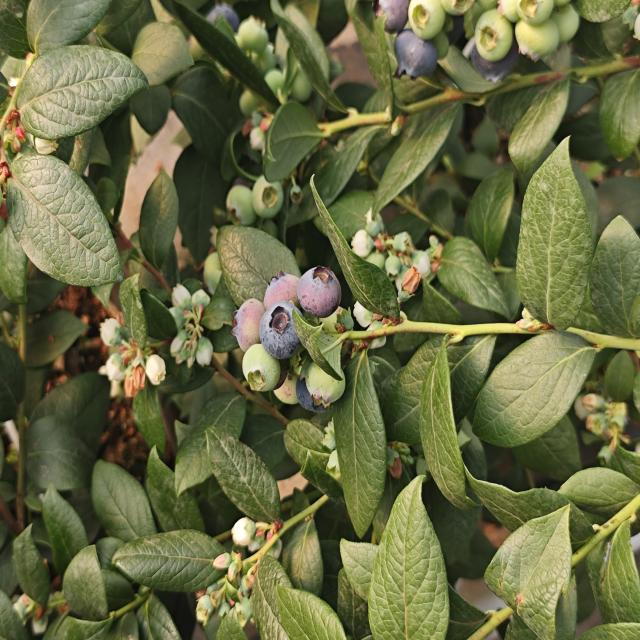ripe: (292, 362, 350, 421), (256, 298, 302, 362), (468, 38, 527, 86), (390, 28, 440, 84), (295, 264, 343, 322), (198, 0, 243, 44)
